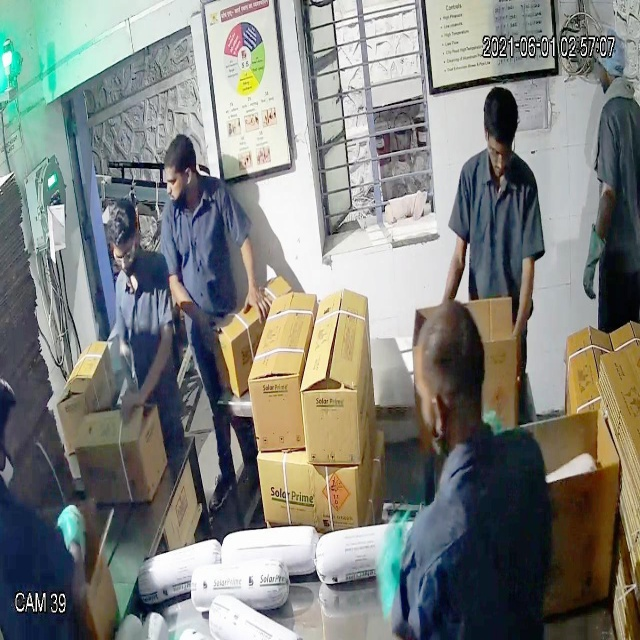Gafas: (111, 236, 141, 276)
